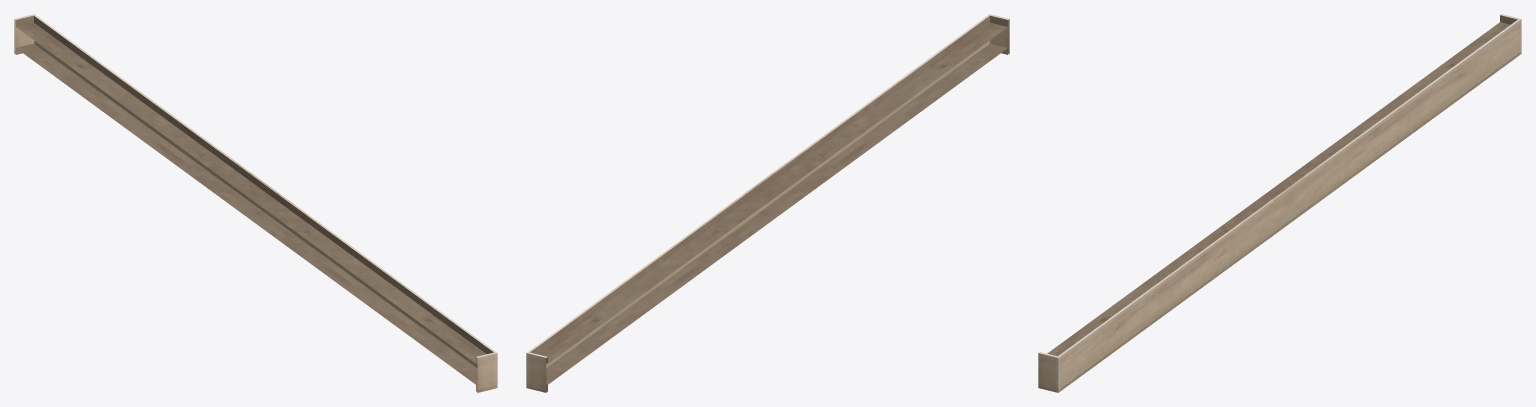
The model's file is WallHanger.glb.
3 views of the same model, side by side, from view 1: azimuth 30°, elevation 25°; view 2: azimuth 150°, elevation 25°; view 3: azimuth 330°, elevation 25° (orthographic).
Parts seen in each view (by area): view 1: wall hanger; view 2: wall hanger; view 3: wall hanger.
Boxes of the visible parts, x1,y1,x2,y2 form: wall hanger: [14, 14, 497, 392]; wall hanger: [526, 14, 1009, 392]; wall hanger: [1038, 14, 1521, 392].
Bounding box in the file's own units: 0.03 × 0.05 × 1.2.
Materials: 1 (1 with a texture image).
